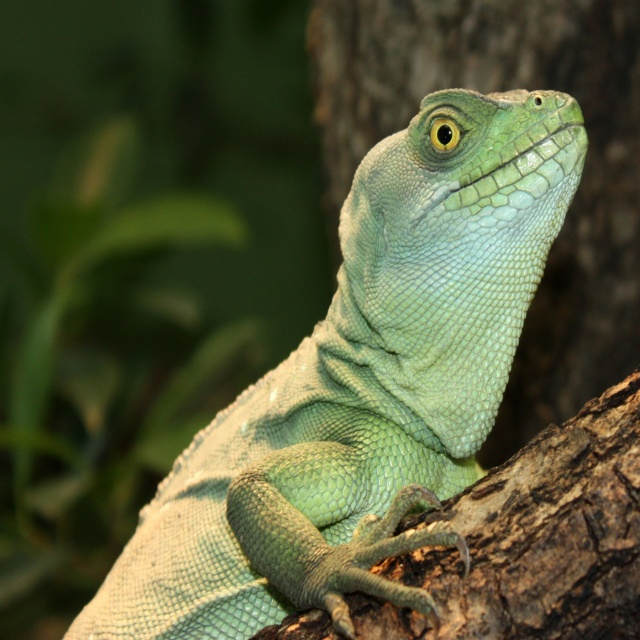Lizard: (61, 88, 589, 640)
